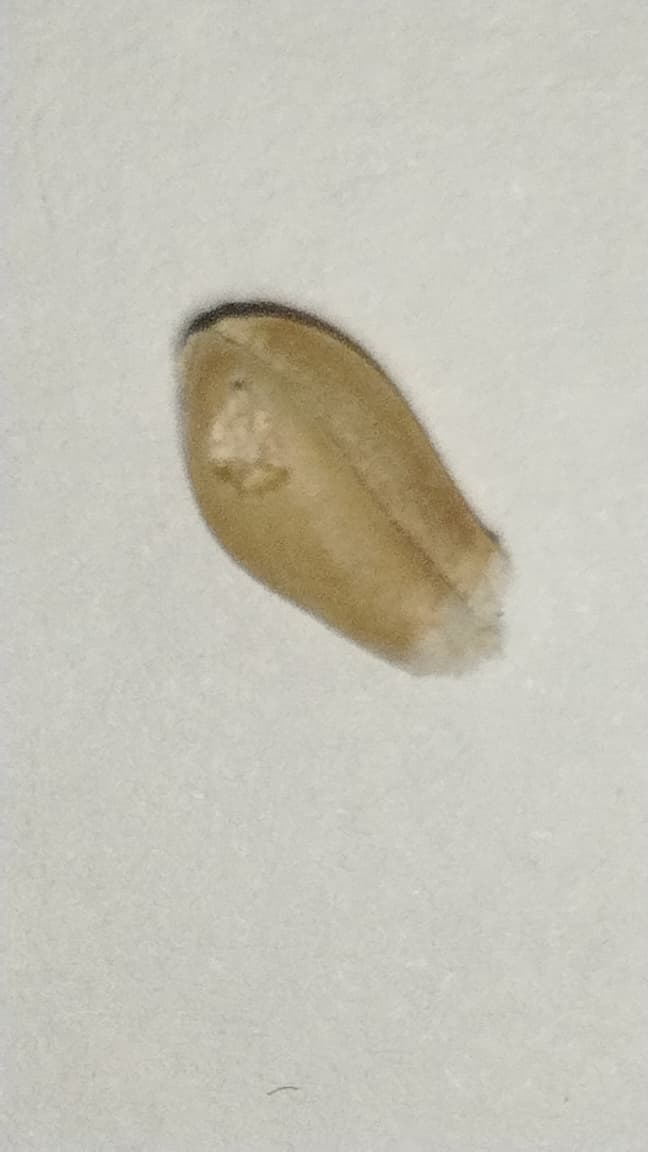damage: (179, 305, 507, 672)
insectdamage: (176, 357, 302, 498)
